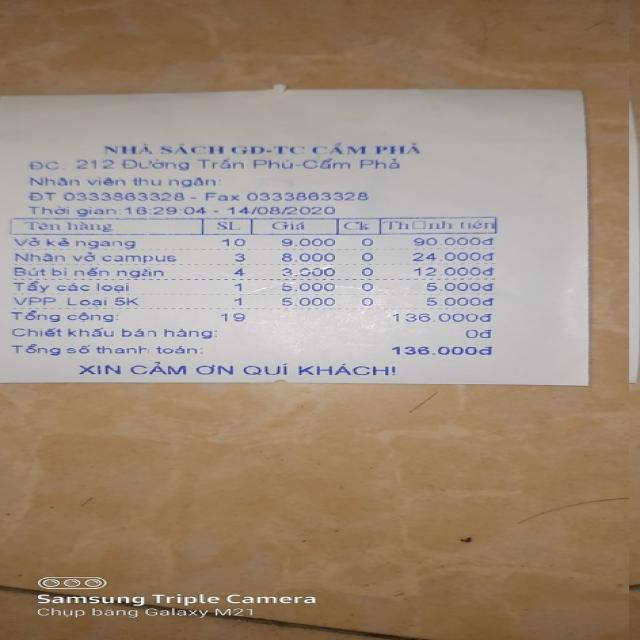Date: (226, 205, 336, 216)
Store_Name: (99, 139, 434, 158)
amount_number: (390, 344, 478, 357)
label_total: (8, 342, 190, 354)
